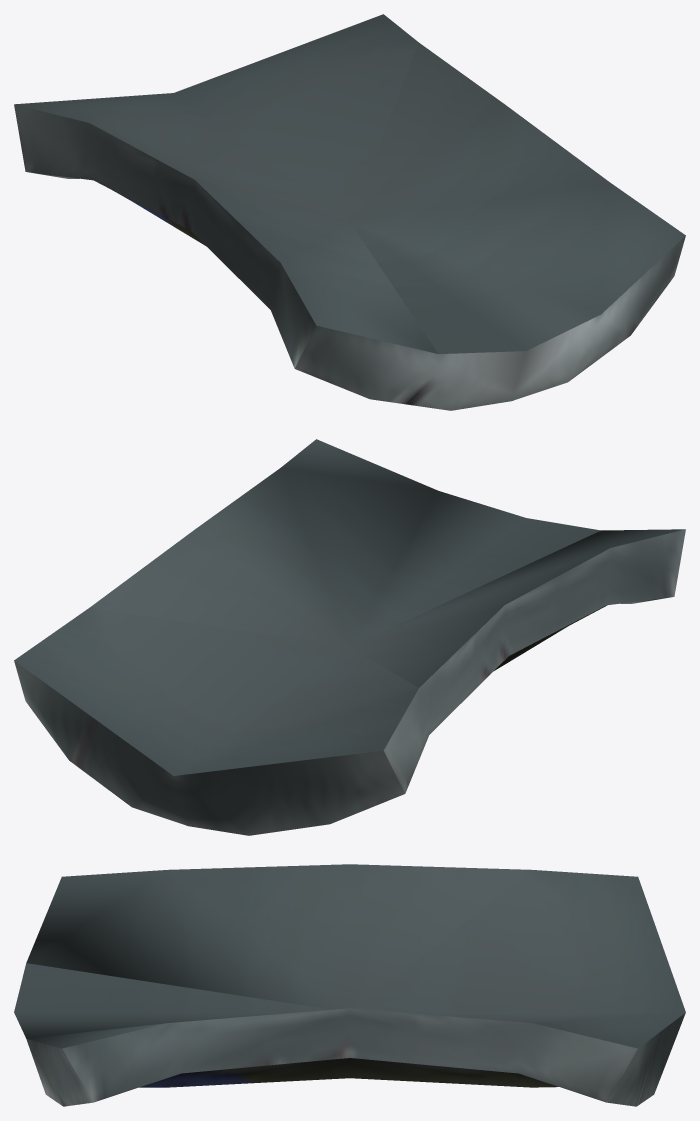
The model's file is model_rank2.glb.
3 renders of one model, top to bottom at view 1: azimuth 30°, elevation 25°; view 2: azimuth 150°, elevation 25°; view 3: azimuth 270°, elevation 25°, orthographic. The views are drawn at different scales.
Visible parts, largest first — view 1: plate.model_rank2-Mesh[0]; view 2: plate.model_rank2-Mesh[0]; view 3: plate.model_rank2-Mesh[0].
Part boxes in pixels (box(x1,y1,x2,y2)): plate.model_rank2-Mesh[0]: box(14, 14, 685, 410); plate.model_rank2-Mesh[0]: box(14, 439, 685, 835); plate.model_rank2-Mesh[0]: box(14, 864, 685, 1106).
Bounding box in the file's own units: 0.6045 × 0.2139 × 0.9719.
Materials: 1 (1 with a texture image).
